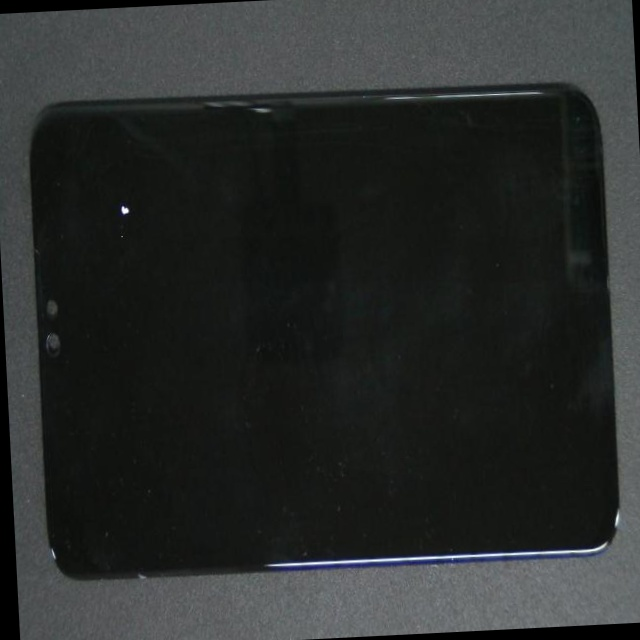stain: (48, 106, 166, 313)
